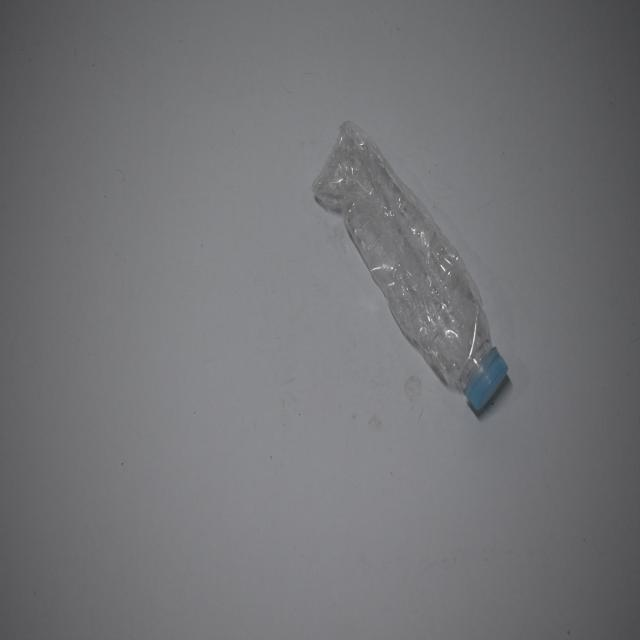bottle: (311, 115, 509, 422)
